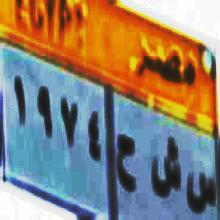1: (14, 74, 28, 139)
4: (84, 104, 104, 174)
7: (59, 90, 78, 159)
7aa: (116, 123, 137, 195)
9: (36, 79, 56, 146)
seen: (185, 162, 215, 220)
sheen: (147, 131, 181, 213)
